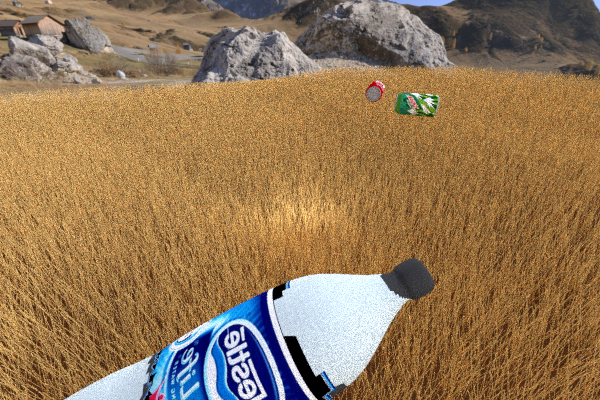Plastic Bottle: (0, 258, 434, 400), (393, 92, 439, 117), (365, 80, 384, 102)
